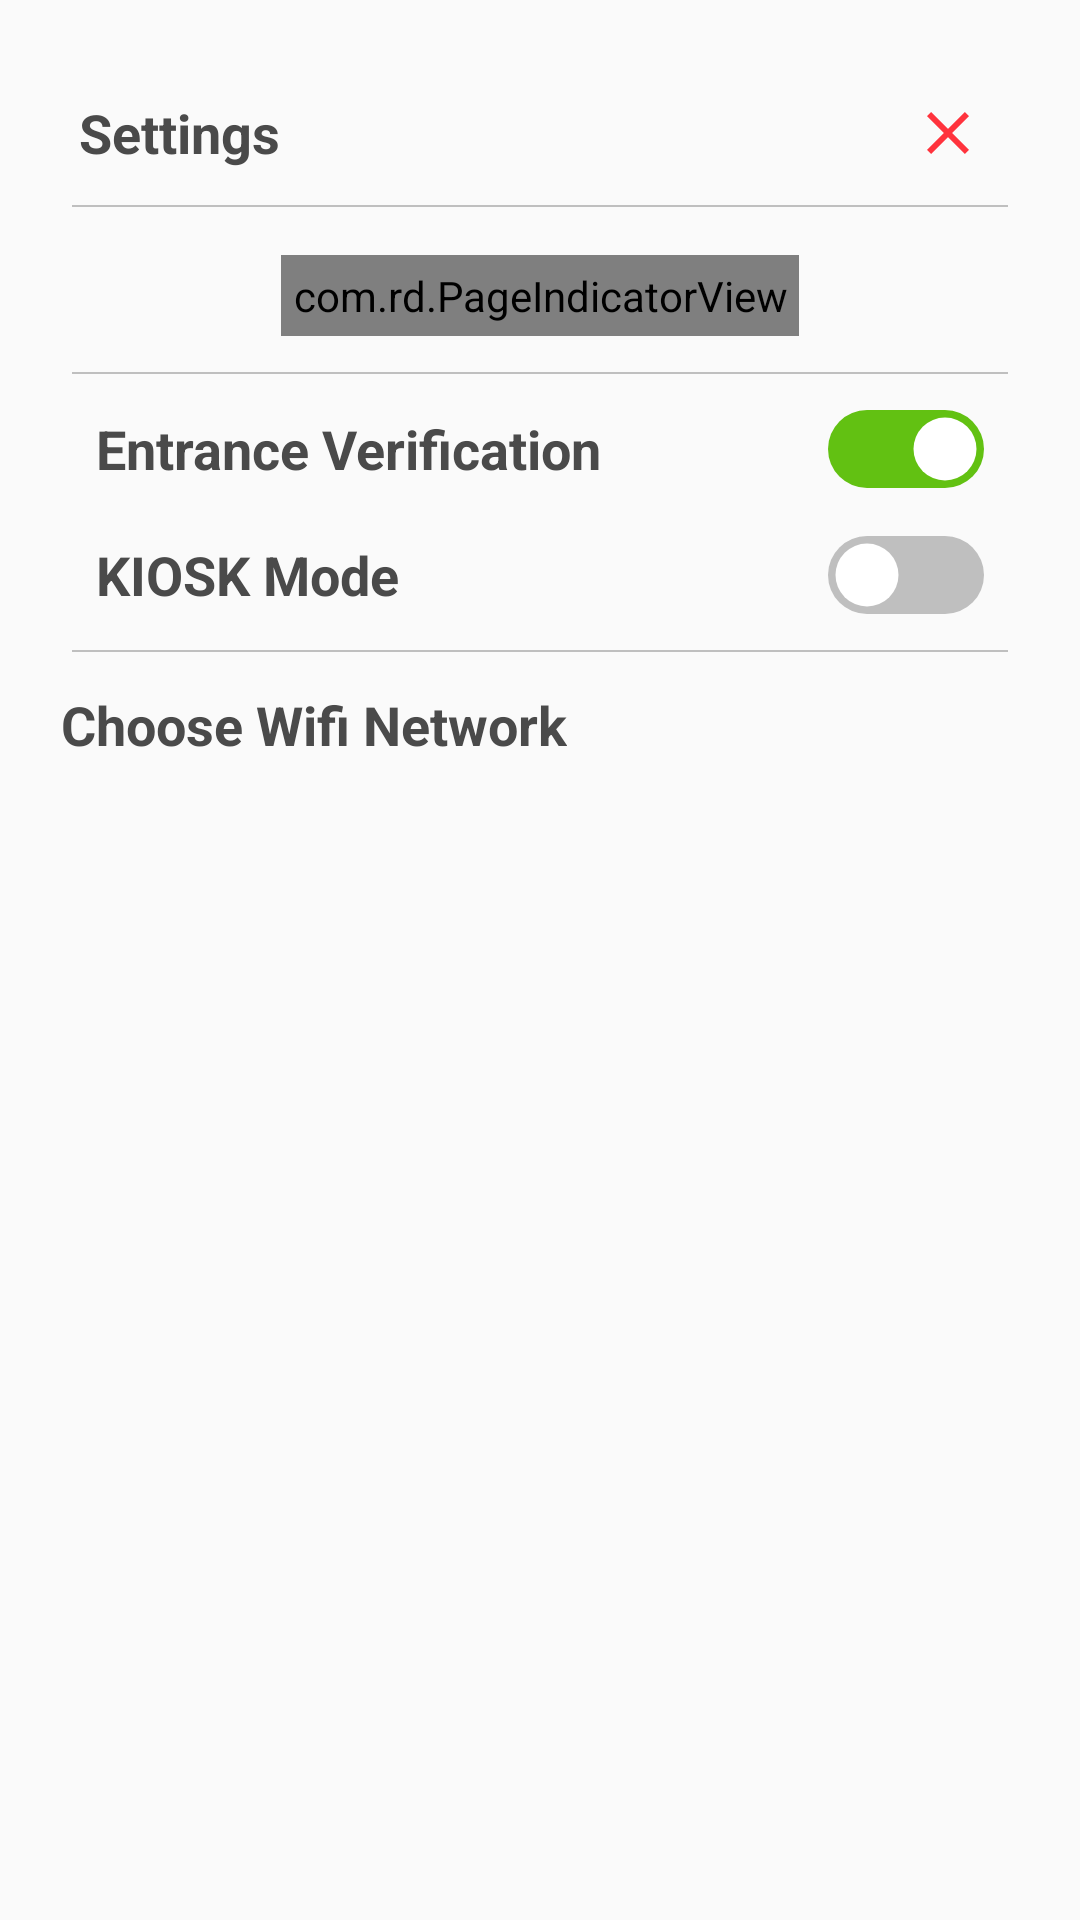

Icon bounding boxes for this 1080*1920 phone screenshot, format (x1, y1, x2, y2):
close: (927, 112, 969, 154)
